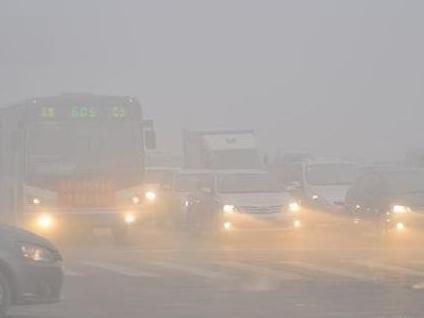bus: (1, 89, 157, 245), (180, 125, 268, 203), (125, 149, 184, 217)
car: (187, 168, 302, 245), (342, 165, 424, 248), (1, 222, 66, 316), (284, 156, 369, 225), (154, 169, 227, 234)
